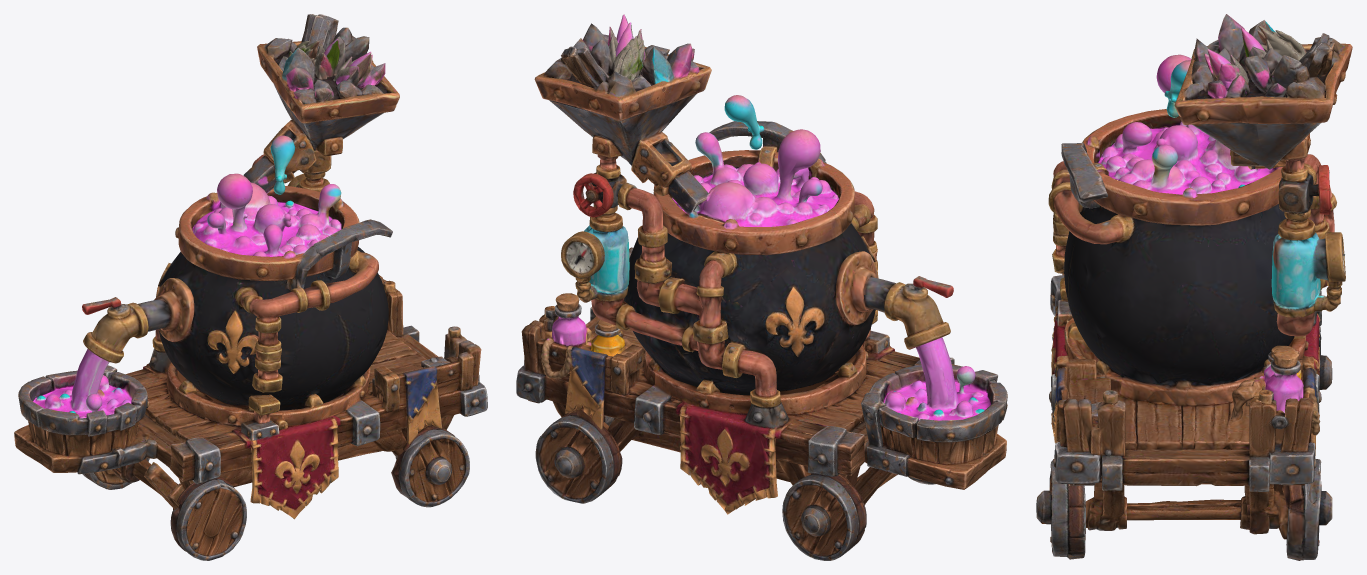
The model's file is sludge_cauldron.glb.
3 views of the same model, side by side, from view 1: azimuth 30°, elevation 25°; view 2: azimuth 150°, elevation 25°; view 3: azimuth 270°, elevation 25° (orthographic). The views are drawn at different scales.
Bounding box in the file's own units: 1.9 × 1.86 × 1.04.
Materials: 1 (1 with a texture image).
